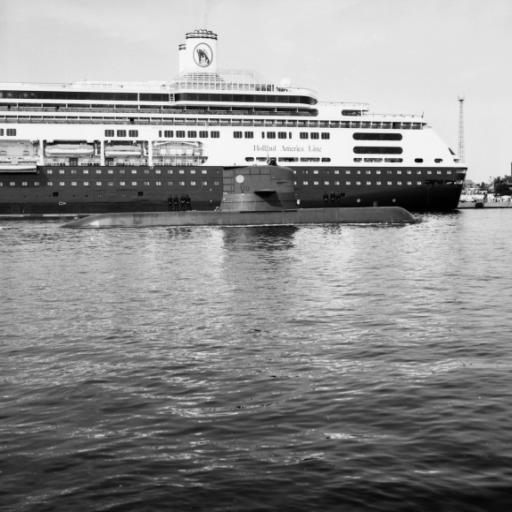submarine: (61, 166, 419, 228)
